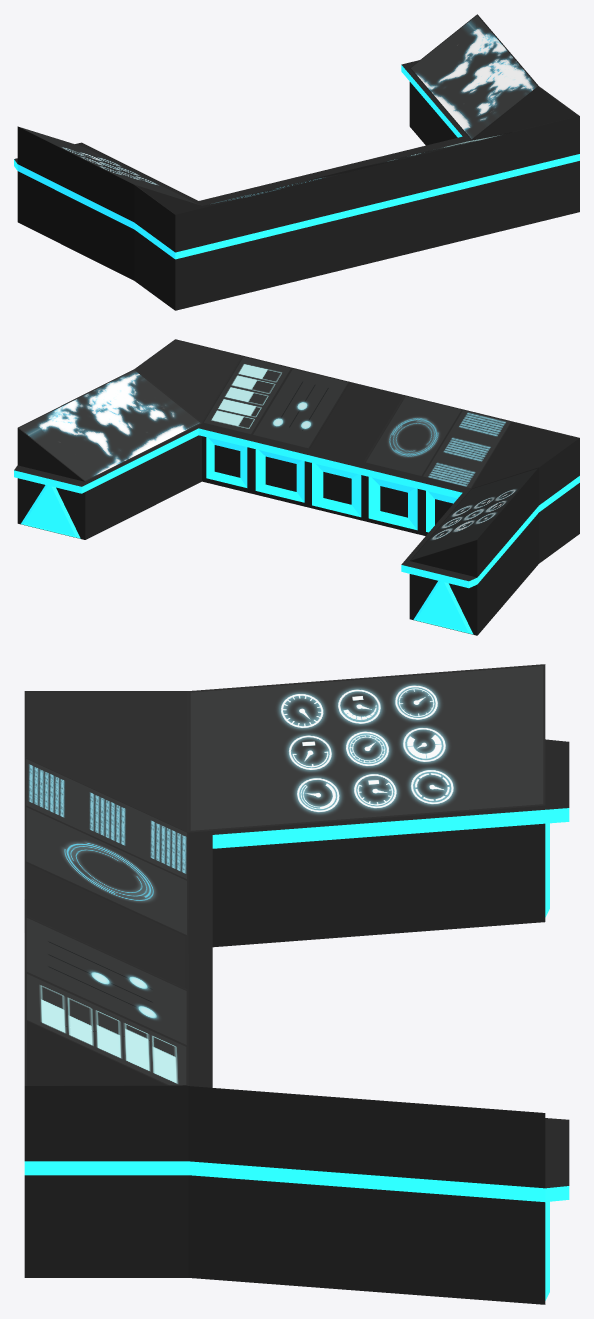
Rendered from desk.gltf.
3 renders of one model, top to bottom at view 1: azimuth 30°, elevation 25°; view 2: azimuth 150°, elevation 25°; view 3: azimuth 270°, elevation 25°, orthographic. The views are drawn at different scales.
Visible parts, largest first — view 1: Cube.010; view 2: Cube.010, Circle, Circle.001; view 3: Cube.010.
Part boxes in pixels (left/top/right/bottom): Cube.010: left=14, top=14, right=579, bottom=310; Cube.010: left=14, top=339, right=579, bottom=635; Circle: left=21, top=485, right=80, bottom=538; Circle.001: left=413, top=581, right=473, bottom=634; Cube.010: left=24, top=664, right=569, bottom=1304.
Size of the model in its own units: 4.61 by 0.9194 by 2.37.
8 materials, 6 textured.
